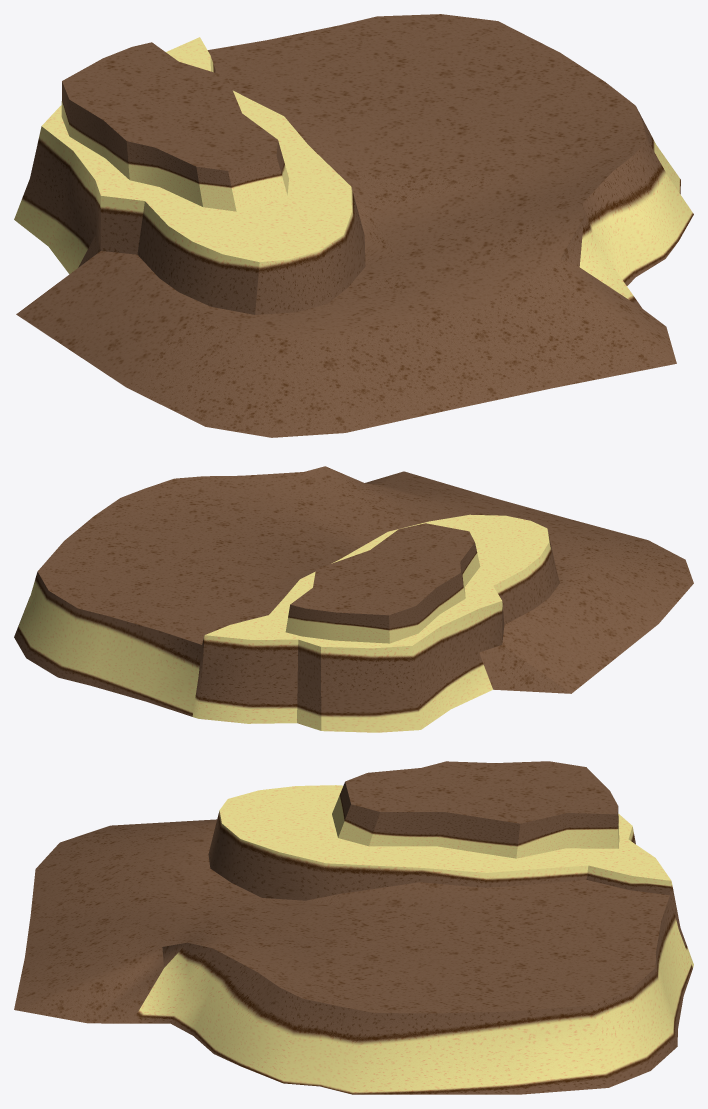
Rendered from SM_Island.fbx.
3 renders of one model, top to bottom at view 1: azimuth 30°, elevation 25°; view 2: azimuth 150°, elevation 25°; view 3: azimuth 270°, elevation 25°, orthographic. The views are drawn at different scales.
Visible parts, largest first — view 1: Island; view 2: Island; view 3: Island.
Boxes of the visible parts, box(x1,y1,x2,y2) form: Island: box(14, 14, 693, 437); Island: box(14, 466, 693, 732); Island: box(14, 761, 693, 1094).
Size of the model in its own units: 35079 by 7137 by 36438.
